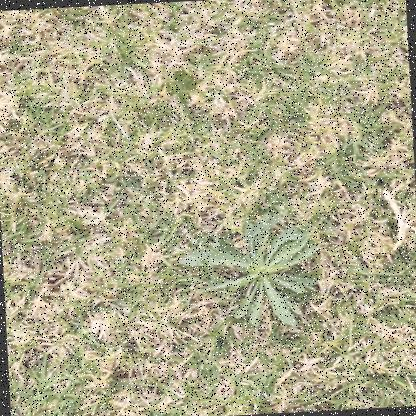Weeds: (176, 214, 324, 332)
